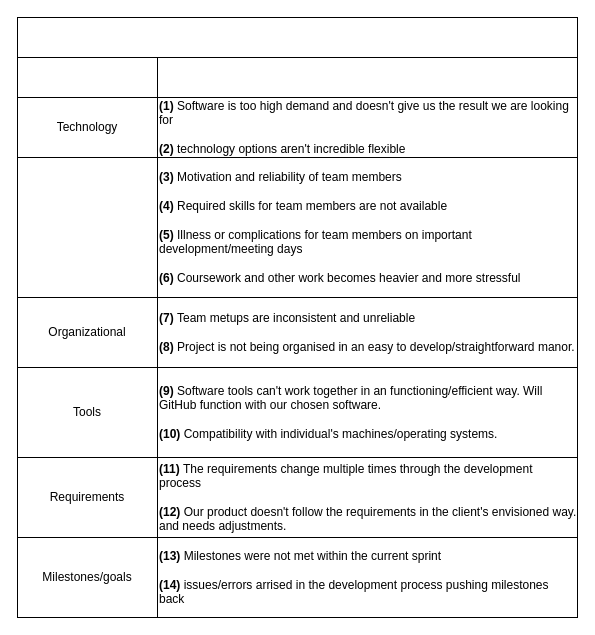
Some shapes in this 595 by 635 pixel diagram are drawn without their labels. Each missing label, with the centre of its shape:
"People" belongs at (87,227).
"Possible Risks" belongs at (367,77).
"Risk Type" belongs at (87,77).
"Types of possible risks:" belongs at (297,37).
